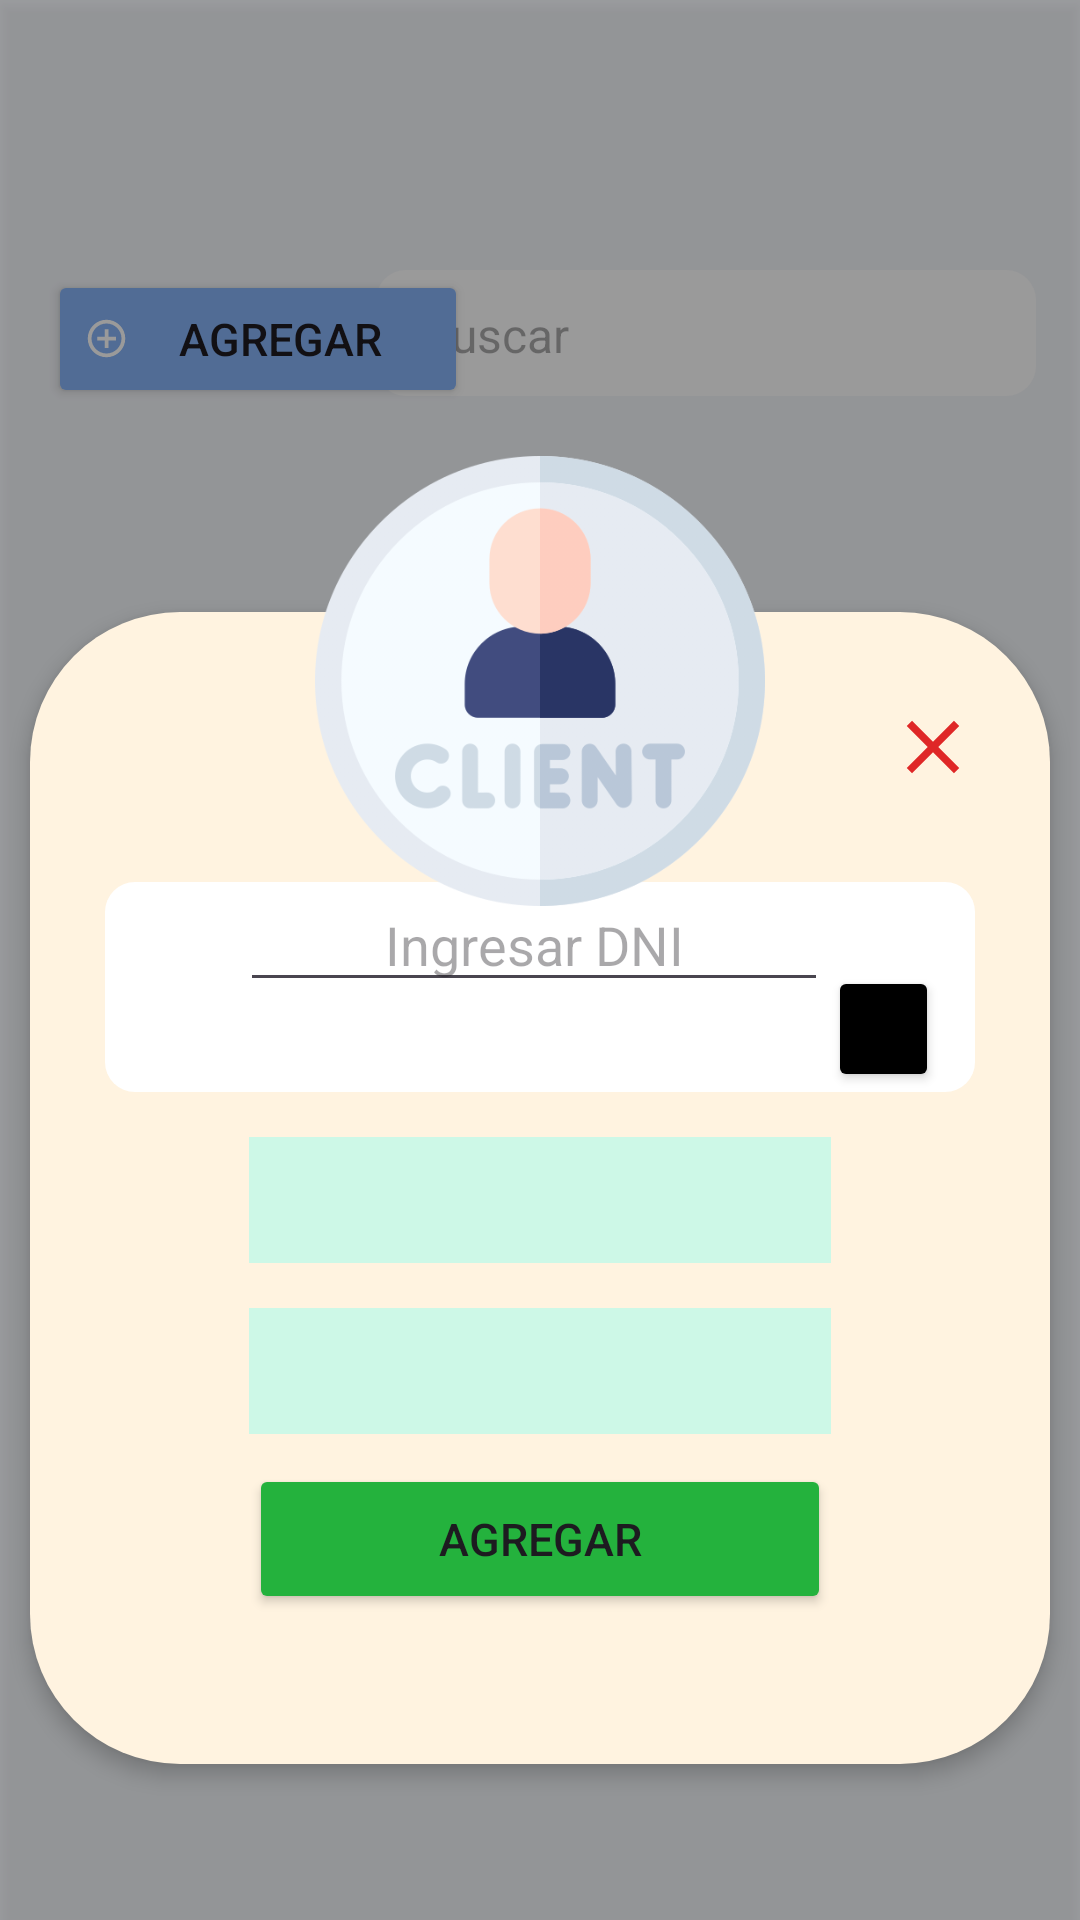

Icon click points for this 1080w x 1920h phone screenshot, format [x,y]:
close modal: [933,747]
